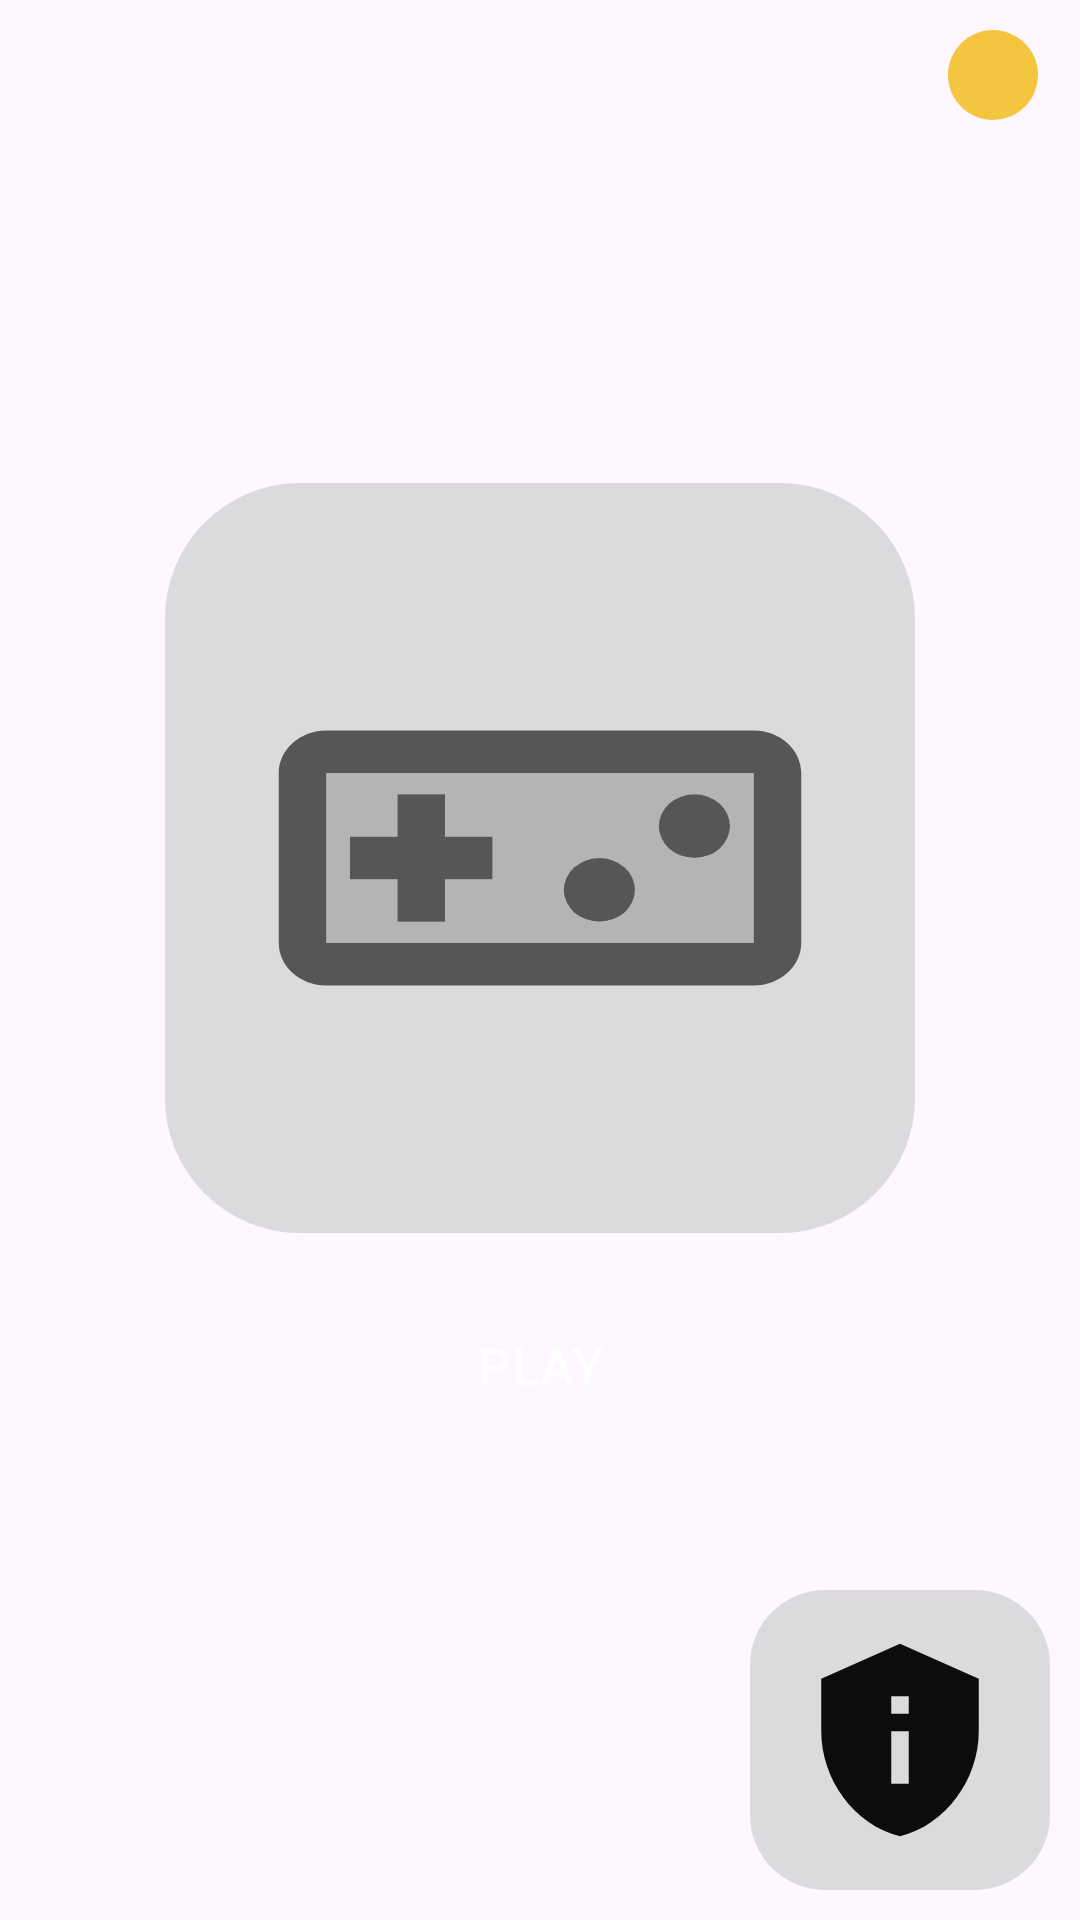

Locate icon controls on the screen. Image size 1080px x 1920px, boxes as (x1, y1, x2, y2).
privacy policy button: (750, 1590, 1050, 1890)
